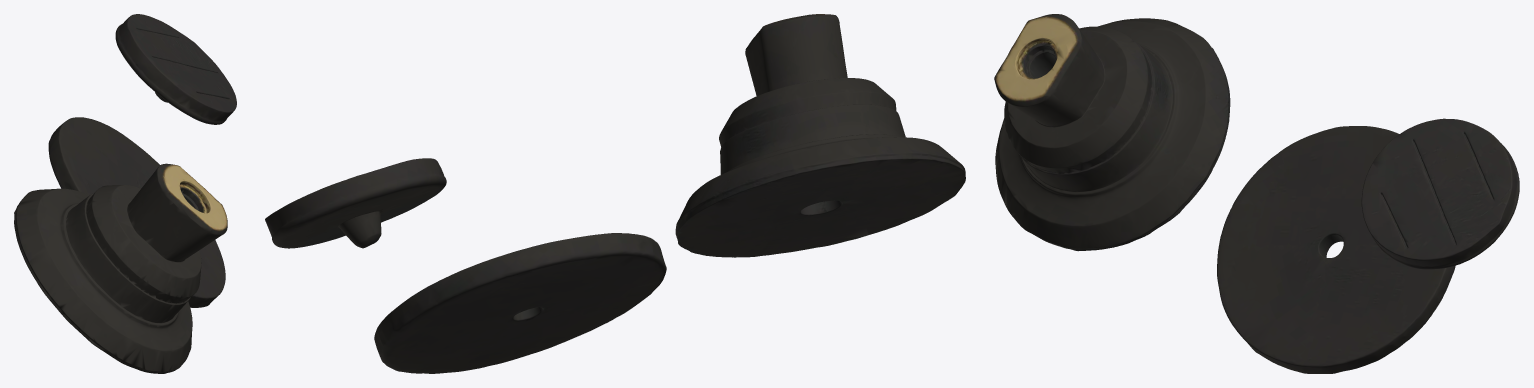
The model's file is rubber-packing-pad.glb.
3 views of the same model, side by side, from view 1: azimuth 30°, elevation 25°; view 2: azimuth 150°, elevation 25°; view 3: azimuth 270°, elevation 25° (orthographic). The views are drawn at different scales.
Parts seen in each view (by area): view 1: tripo_node_461b75e9-231c-49b0-989a-7d81cdc37bbf; view 2: tripo_node_461b75e9-231c-49b0-989a-7d81cdc37bbf; view 3: tripo_node_461b75e9-231c-49b0-989a-7d81cdc37bbf.
Part boxes in pixels (box(x1,y1,x2,y2)): tripo_node_461b75e9-231c-49b0-989a-7d81cdc37bbf: box(14, 14, 236, 373); tripo_node_461b75e9-231c-49b0-989a-7d81cdc37bbf: box(265, 14, 965, 373); tripo_node_461b75e9-231c-49b0-989a-7d81cdc37bbf: box(994, 14, 1519, 373).
Bounding box in the file's own units: 0.8943 × 0.5644 × 1.
1 material, 1 textured.
